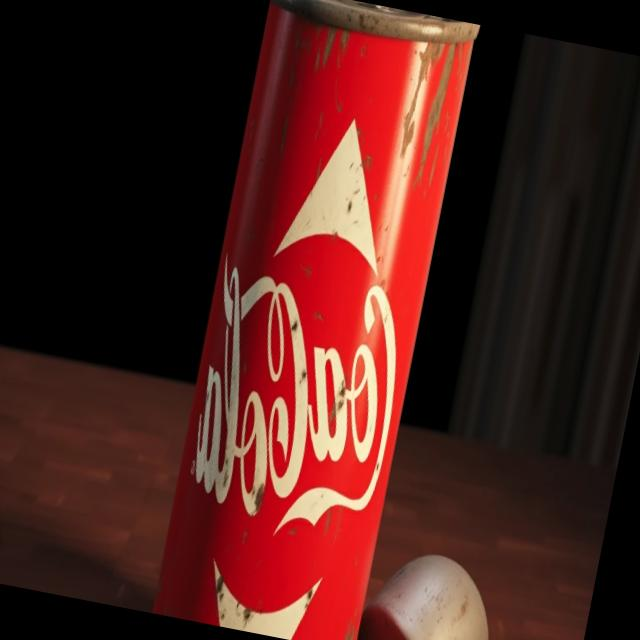cocacola: (152, 0, 476, 640)
